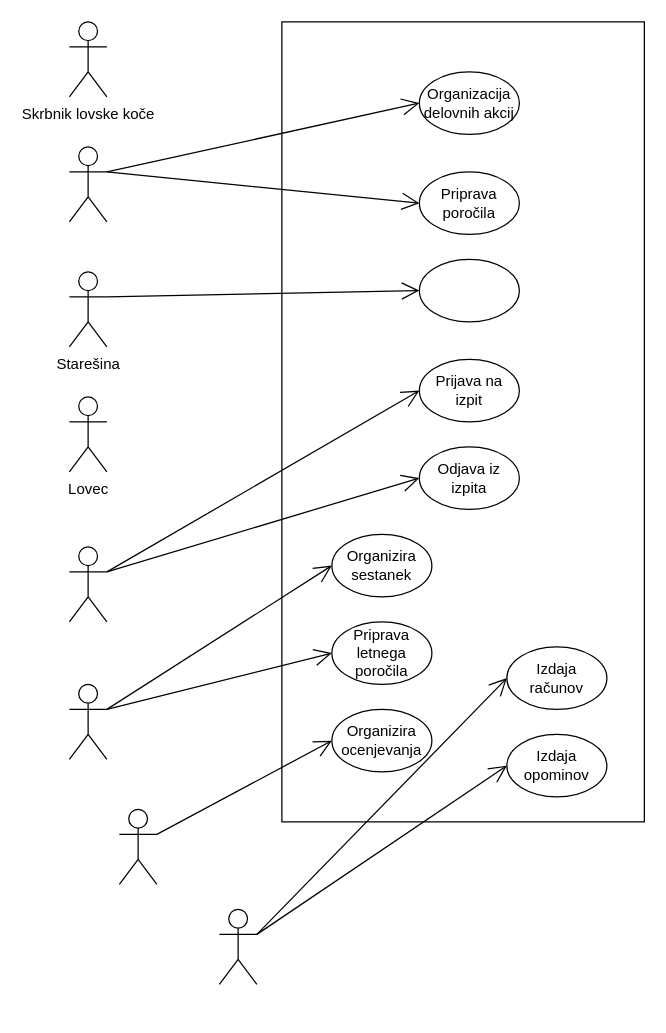
The diagram is 666 pixels wide and 1033 high, and some of its shapes have lost their labels. Here are the shapes that lost their labels. From the top down, the centre of each, then its label:
At [87,184]: "Gospodar".
At [468,290]: "Dodelitev nalog".
At [87,584]: "Lovski pripravnik".
At [87,721]: "Tajnik".
At [137,846]: "Referent za kinologijo".
At [237,946]: "Blagajnik".
